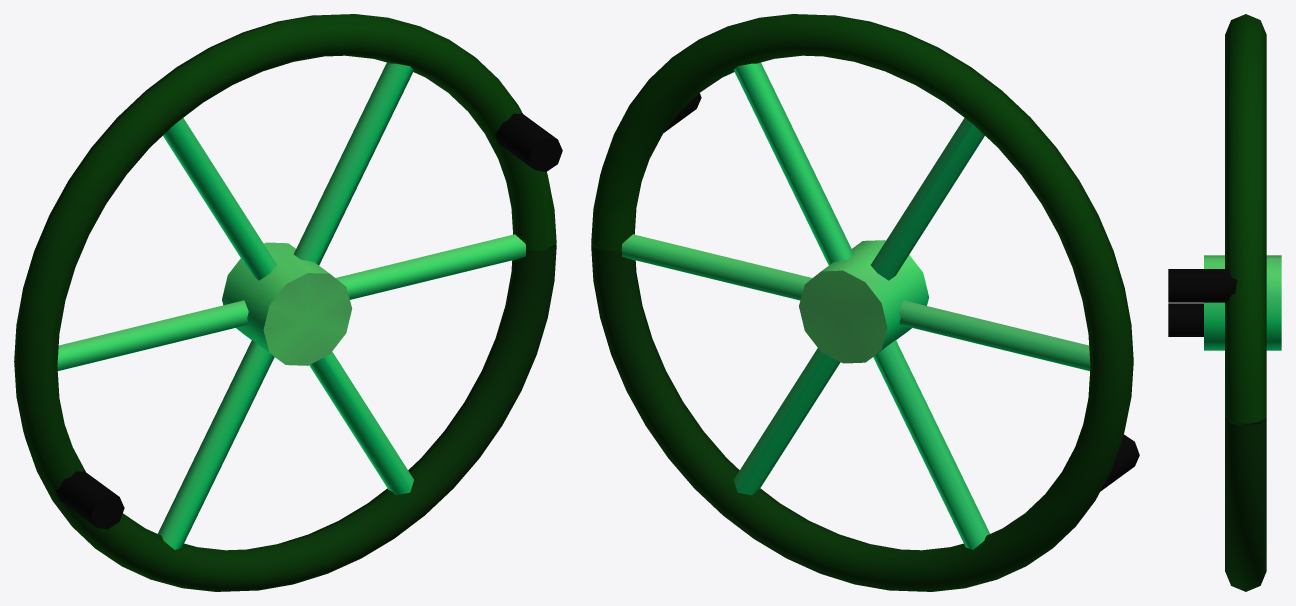
File: flue_key_wheel.glb
3 views of the same model, side by side, from view 1: azimuth 30°, elevation 25°; view 2: azimuth 150°, elevation 25°; view 3: azimuth 270°, elevation 25° (orthographic). The views are drawn at different scales.
Visible parts, largest first — view 1: flue_key_wheel; view 2: flue_key_wheel; view 3: flue_key_wheel.
Part boxes in pixels (left/top/right/bottom): flue_key_wheel: left=14, top=14, right=562, bottom=591; flue_key_wheel: left=591, top=14, right=1139, bottom=591; flue_key_wheel: left=1168, top=14, right=1281, bottom=591.
Size of what is drawn, in the model's own units: 0.9699 by 0.97 by 0.19.
